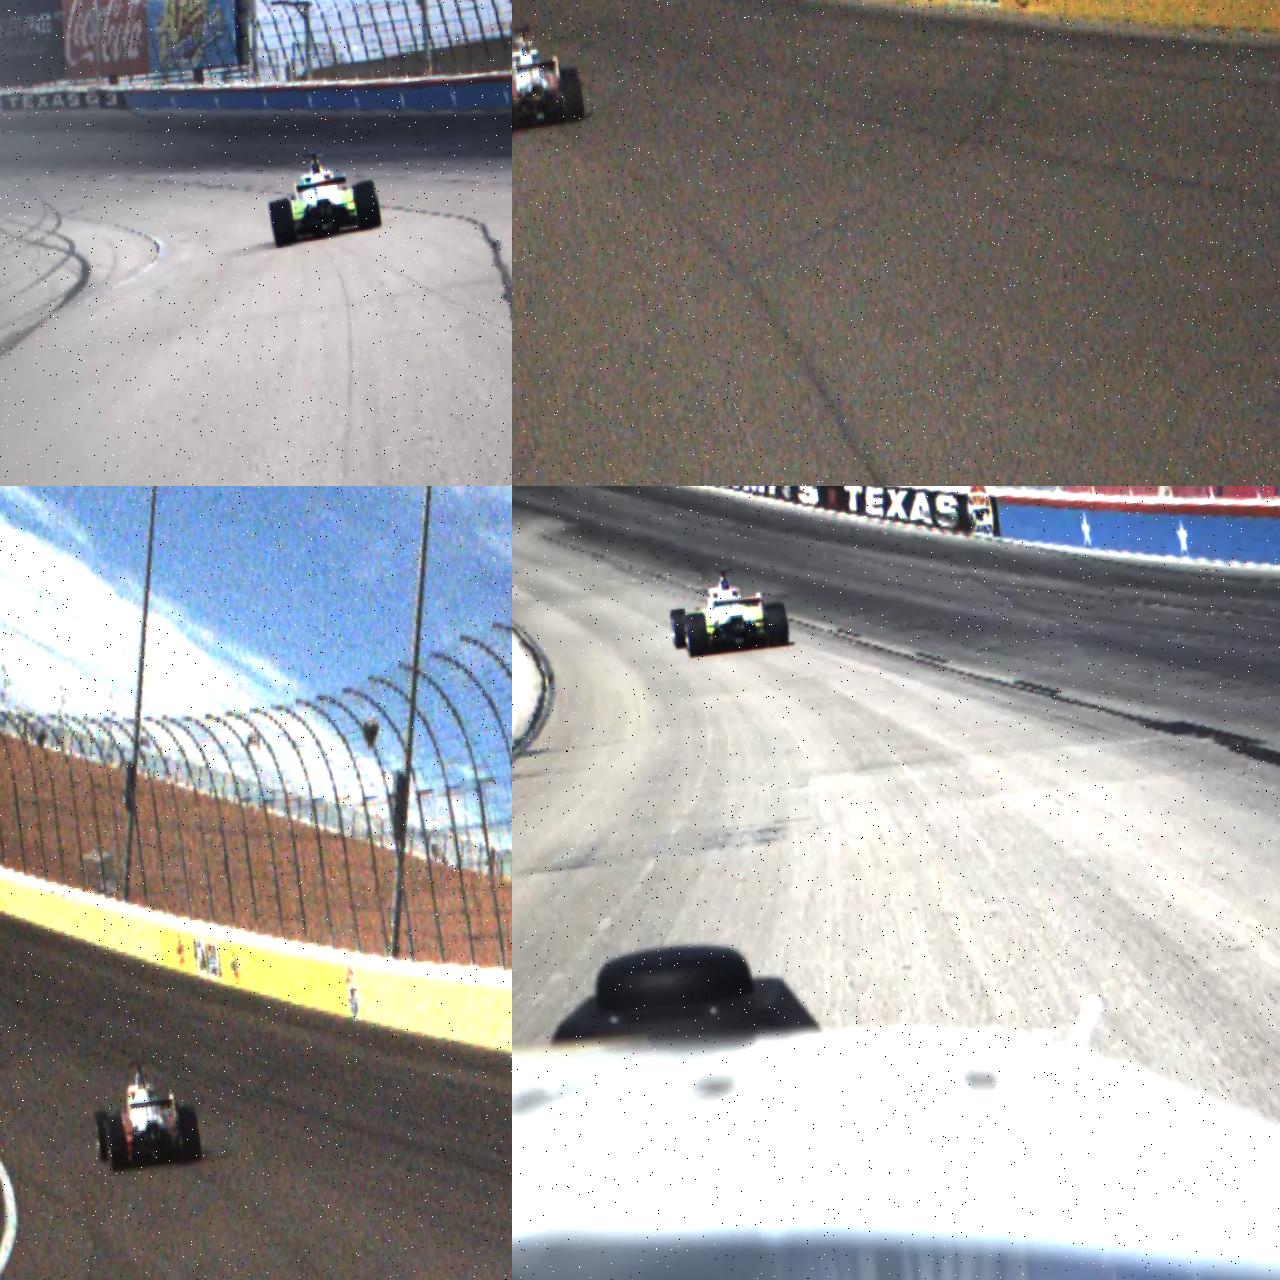AV: (86, 1054, 204, 1174), (263, 142, 384, 248), (664, 562, 790, 660), (512, 19, 587, 139)
Wheel: (352, 180, 382, 232), (104, 1113, 130, 1172), (561, 66, 586, 124), (178, 1104, 202, 1163), (268, 198, 296, 248), (683, 612, 710, 658), (764, 602, 790, 648), (94, 1110, 114, 1163), (670, 608, 690, 650)
